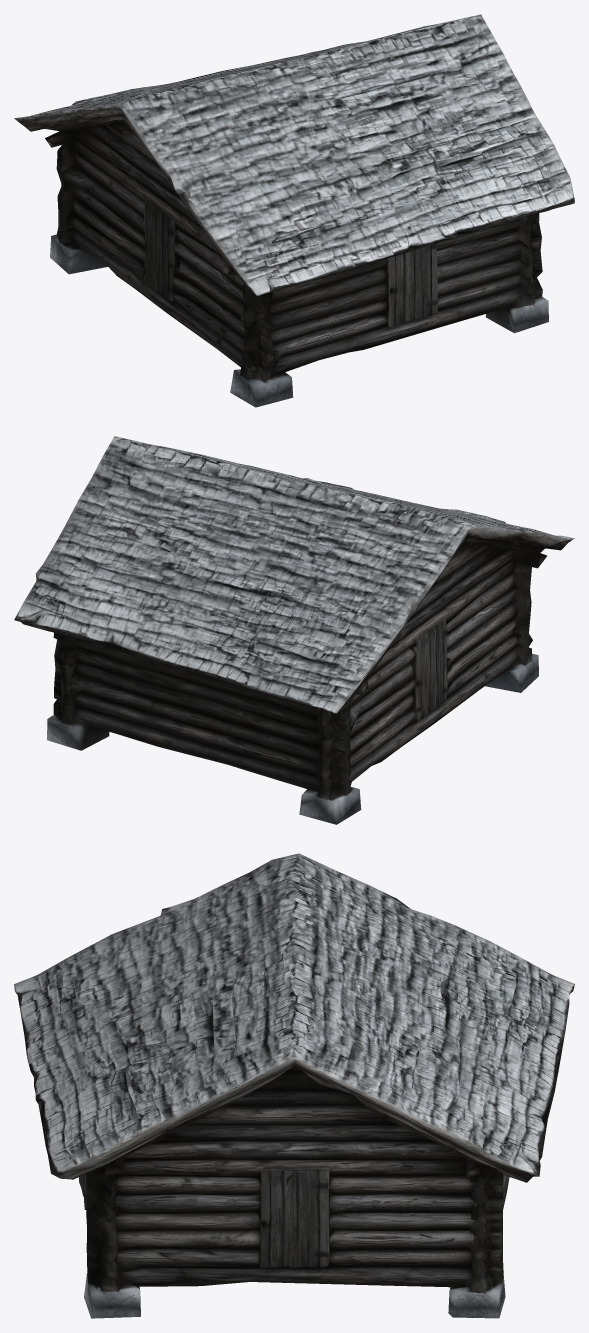
Rendered from hayhut_tripo.glb.
The picture shows the model from 3 angles, top to bottom: view 1: azimuth 30°, elevation 25°; view 2: azimuth 150°, elevation 25°; view 3: azimuth 270°, elevation 25°; orthographic projection. The views are drawn at different scales.
Parts seen in each view (by area): view 1: tripo_node_1a6be6aa-ca50-46a2-a4cf-77c0c1b396fb; view 2: tripo_node_1a6be6aa-ca50-46a2-a4cf-77c0c1b396fb; view 3: tripo_node_1a6be6aa-ca50-46a2-a4cf-77c0c1b396fb.
Part boxes in pixels (x1,y1,x2,y2): tripo_node_1a6be6aa-ca50-46a2-a4cf-77c0c1b396fb: (14, 14, 574, 407); tripo_node_1a6be6aa-ca50-46a2-a4cf-77c0c1b396fb: (14, 436, 574, 824); tripo_node_1a6be6aa-ca50-46a2-a4cf-77c0c1b396fb: (14, 853, 574, 1318).
Size of the model in its own units: 0.8454 by 0.532 by 0.9799.
Materials: 1 (1 with a texture image).
